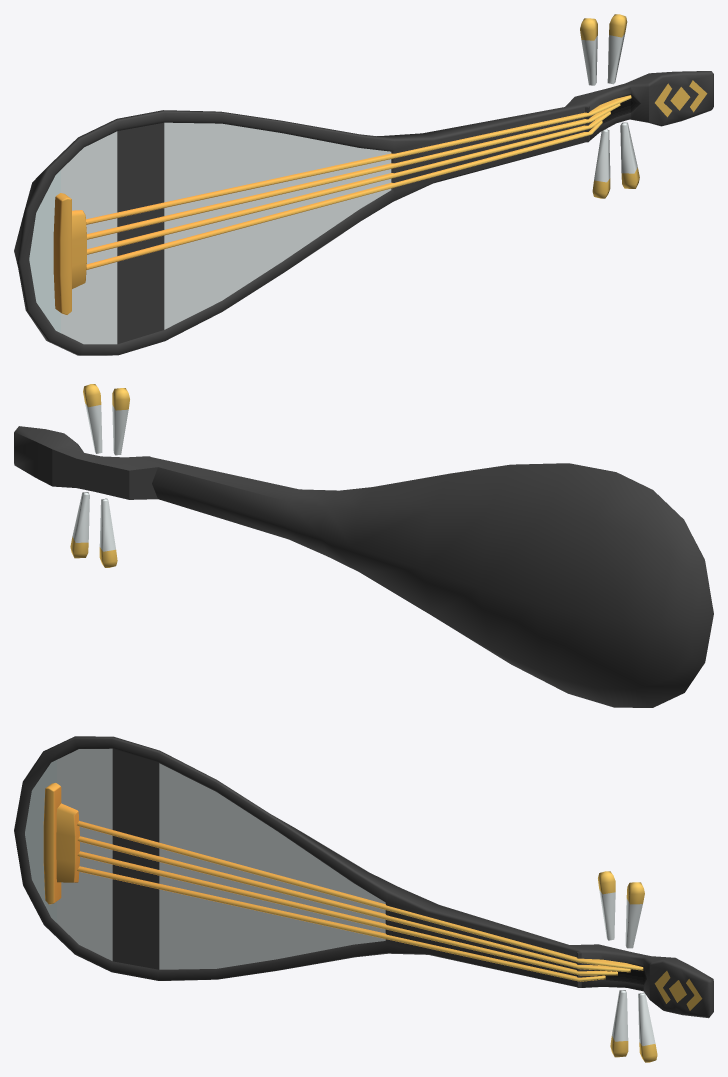
Rendered from CharSkyKid_Prop_AP09Lute_01.glb.
3 views of the same model, one above another, from view 1: azimuth 30°, elevation 25°; view 2: azimuth 150°, elevation 25°; view 3: azimuth 330°, elevation 25° (orthographic).
Parts seen in each view (by area): view 1: CharSkyKid_Prop_AP09Lute_01; view 2: CharSkyKid_Prop_AP09Lute_01; view 3: CharSkyKid_Prop_AP09Lute_01.
Part boxes in pixels (x1=…): CharSkyKid_Prop_AP09Lute_01: x1=14, y1=14, x2=713, y2=355; CharSkyKid_Prop_AP09Lute_01: x1=14, y1=384, x2=713, y2=707; CharSkyKid_Prop_AP09Lute_01: x1=14, y1=736, x2=713, y2=1062.
Bounding box in the file's own units: 8.39 × 2.71 × 0.8713.
1 material, 1 textured.
